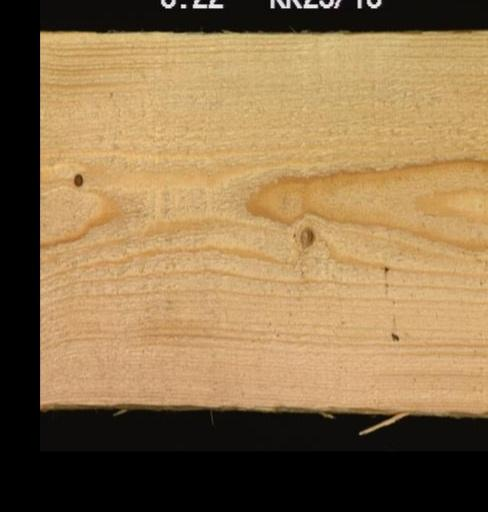dry_knot: (70, 170, 84, 187)
sound_knot: (295, 224, 315, 248)
